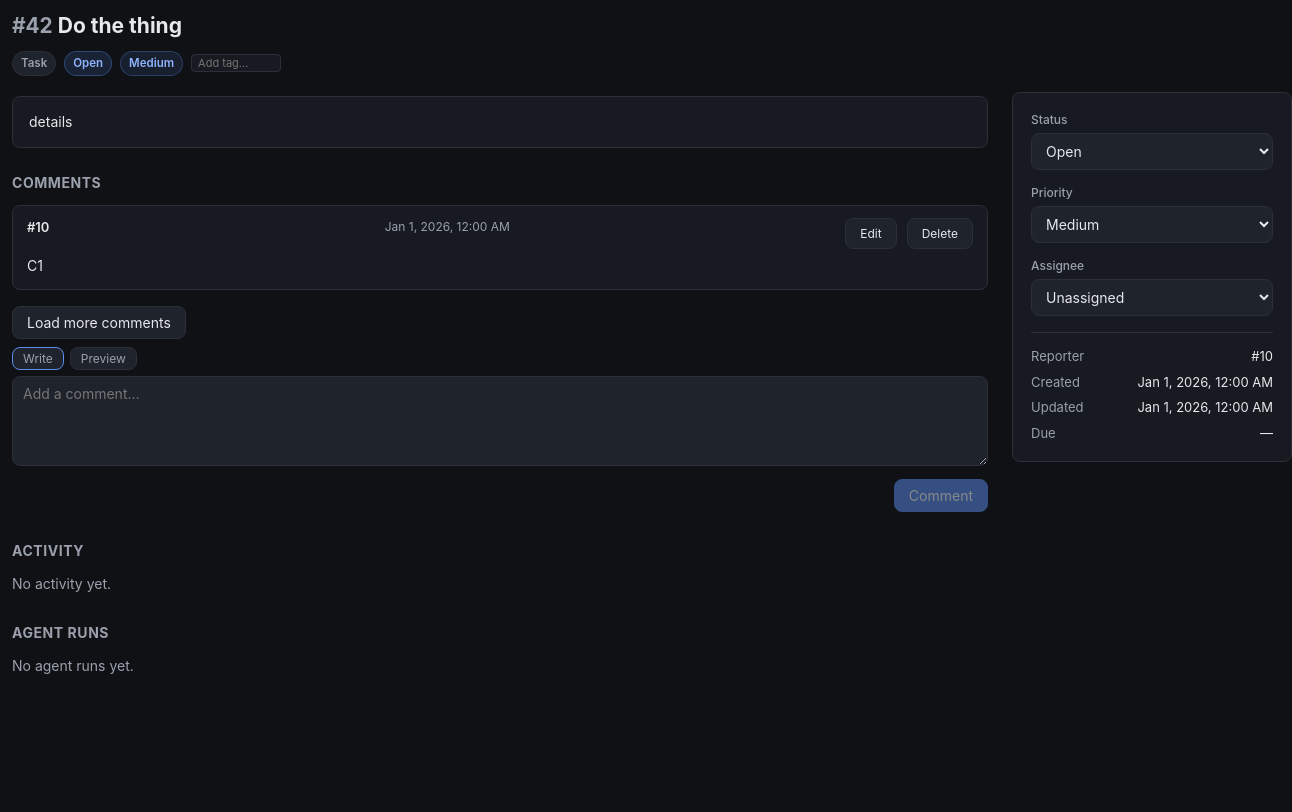
TicketDetail comment pagination › ignores a second click while a load is already in flight
The width and height of the screenshot is (1292, 812).
Expected: the heading "#42 Do the thing" is shown, [12,13,182,38]
Click the button "Load more comments". click: x=99, y=323
box: [12,306,186,340]
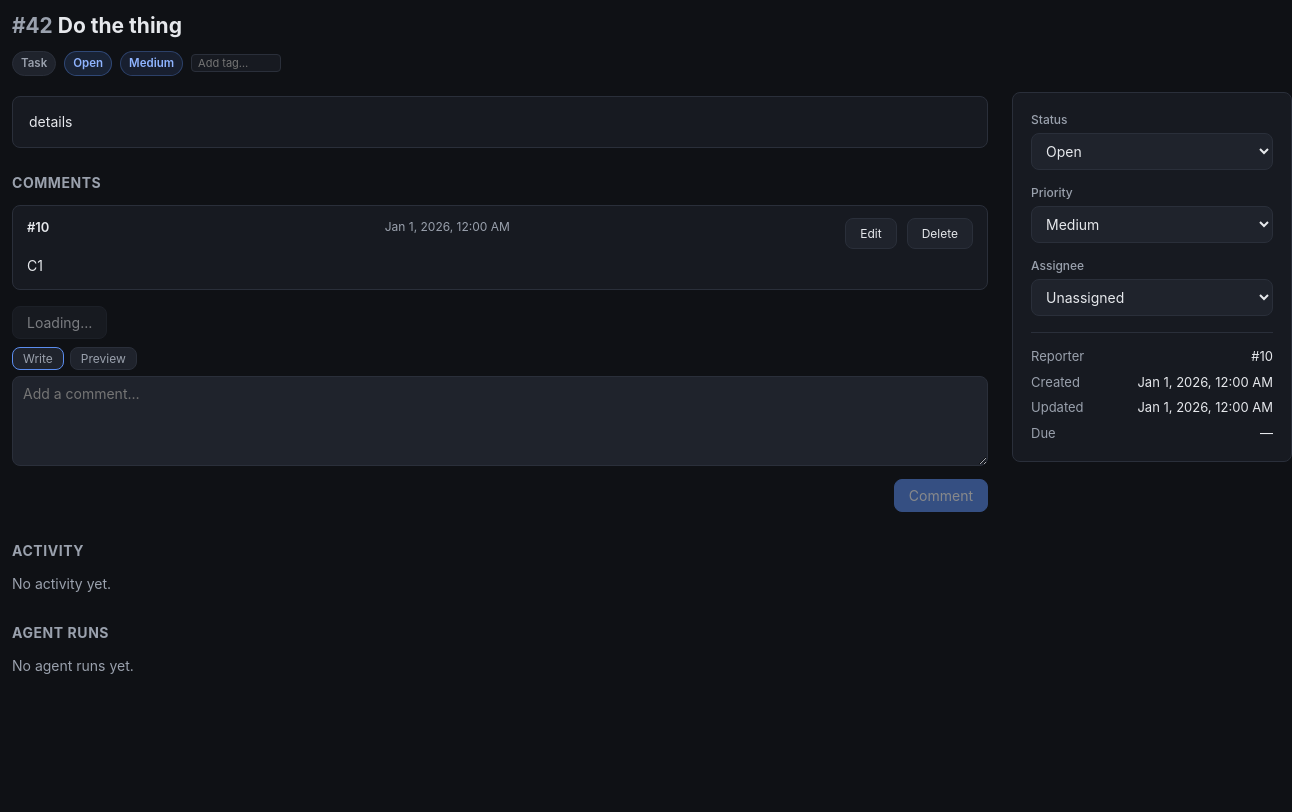
// Second click before the first resolves
Click the button named "Load more comments". click: x=60, y=323
box: [12,306,107,340]
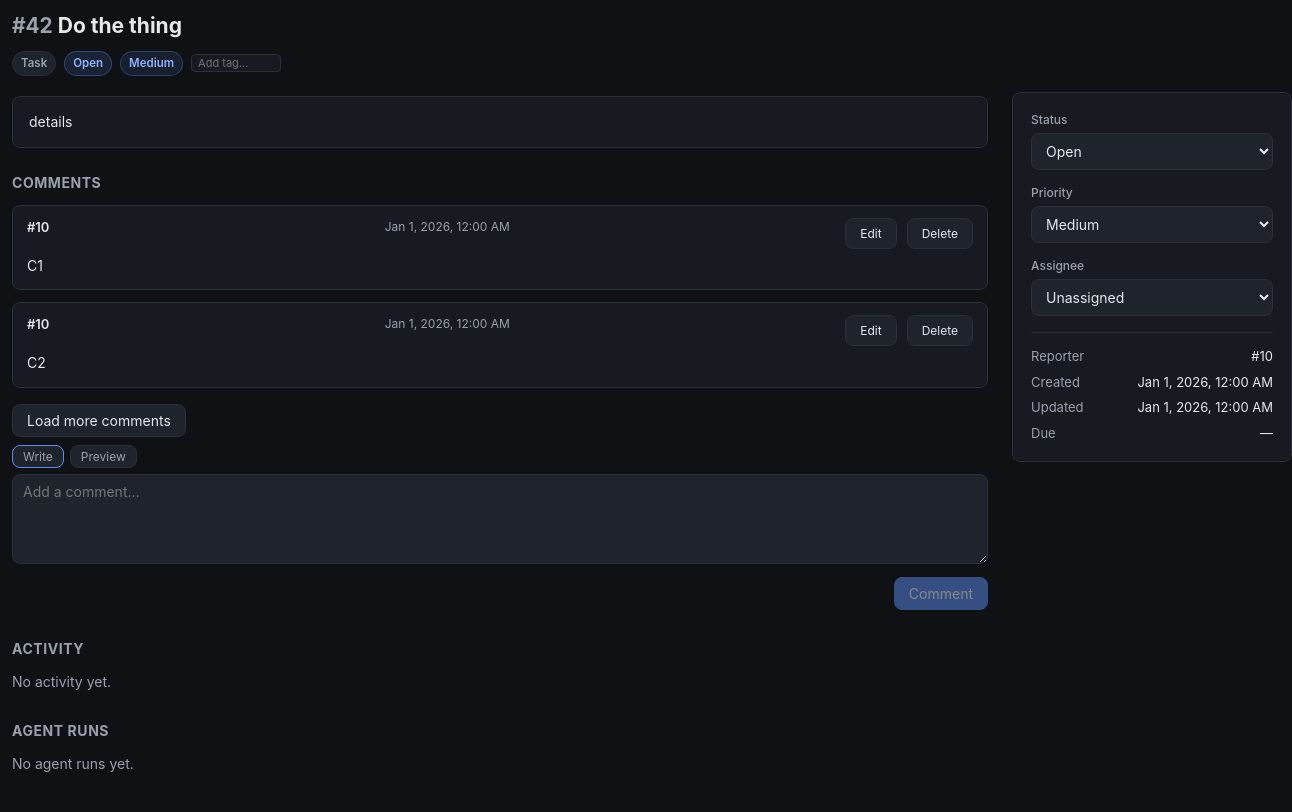
Result: the text "C2" is shown at [27,354,46,372]
